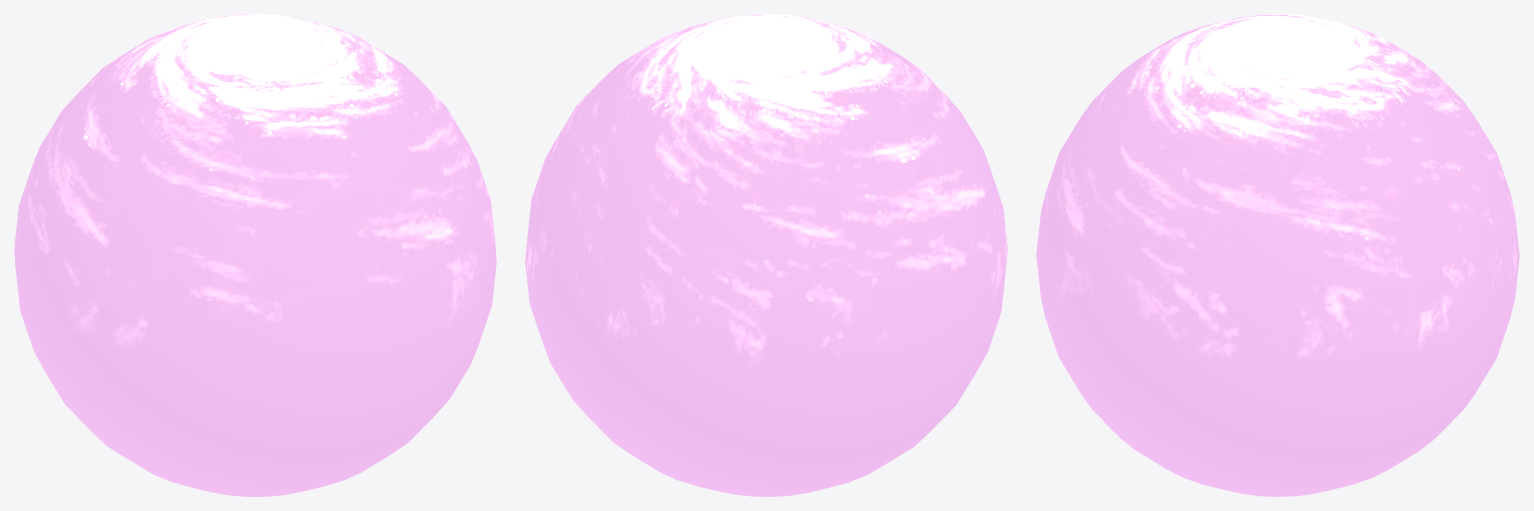
The model's file is purple-planet-clouds-transformed.glb.
3 views of the same model, side by side, from view 1: azimuth 30°, elevation 25°; view 2: azimuth 150°, elevation 25°; view 3: azimuth 270°, elevation 25° (orthographic).
Parts seen in each view (by area): view 1: Clouds_0_0; view 2: Clouds_0_0; view 3: Clouds_0_0.
Part boxes in pixels (box(x1,y1,x2,y2)): Clouds_0_0: box(14, 14, 496, 496); Clouds_0_0: box(525, 14, 1007, 496); Clouds_0_0: box(1036, 14, 1519, 496).
Size of the model in its own units: 2.04 by 2.04 by 2.04.
1 material, 1 textured.
